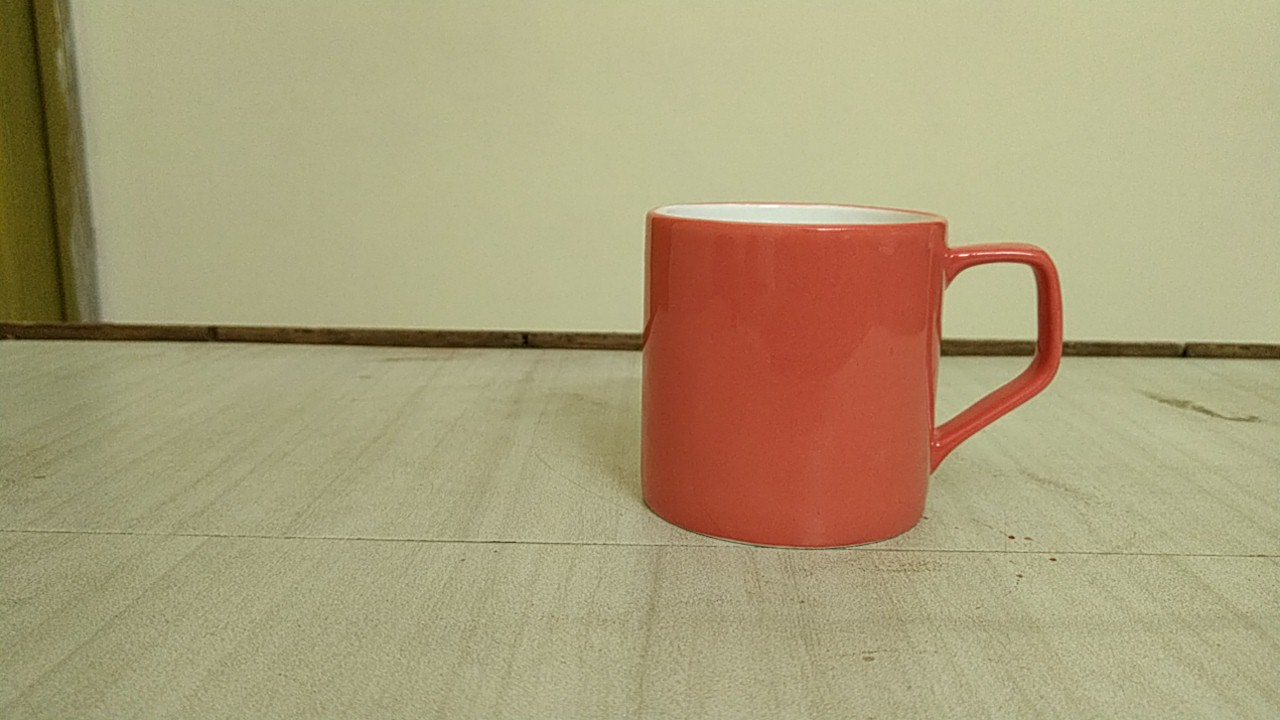cup: (623, 186, 1081, 571)
